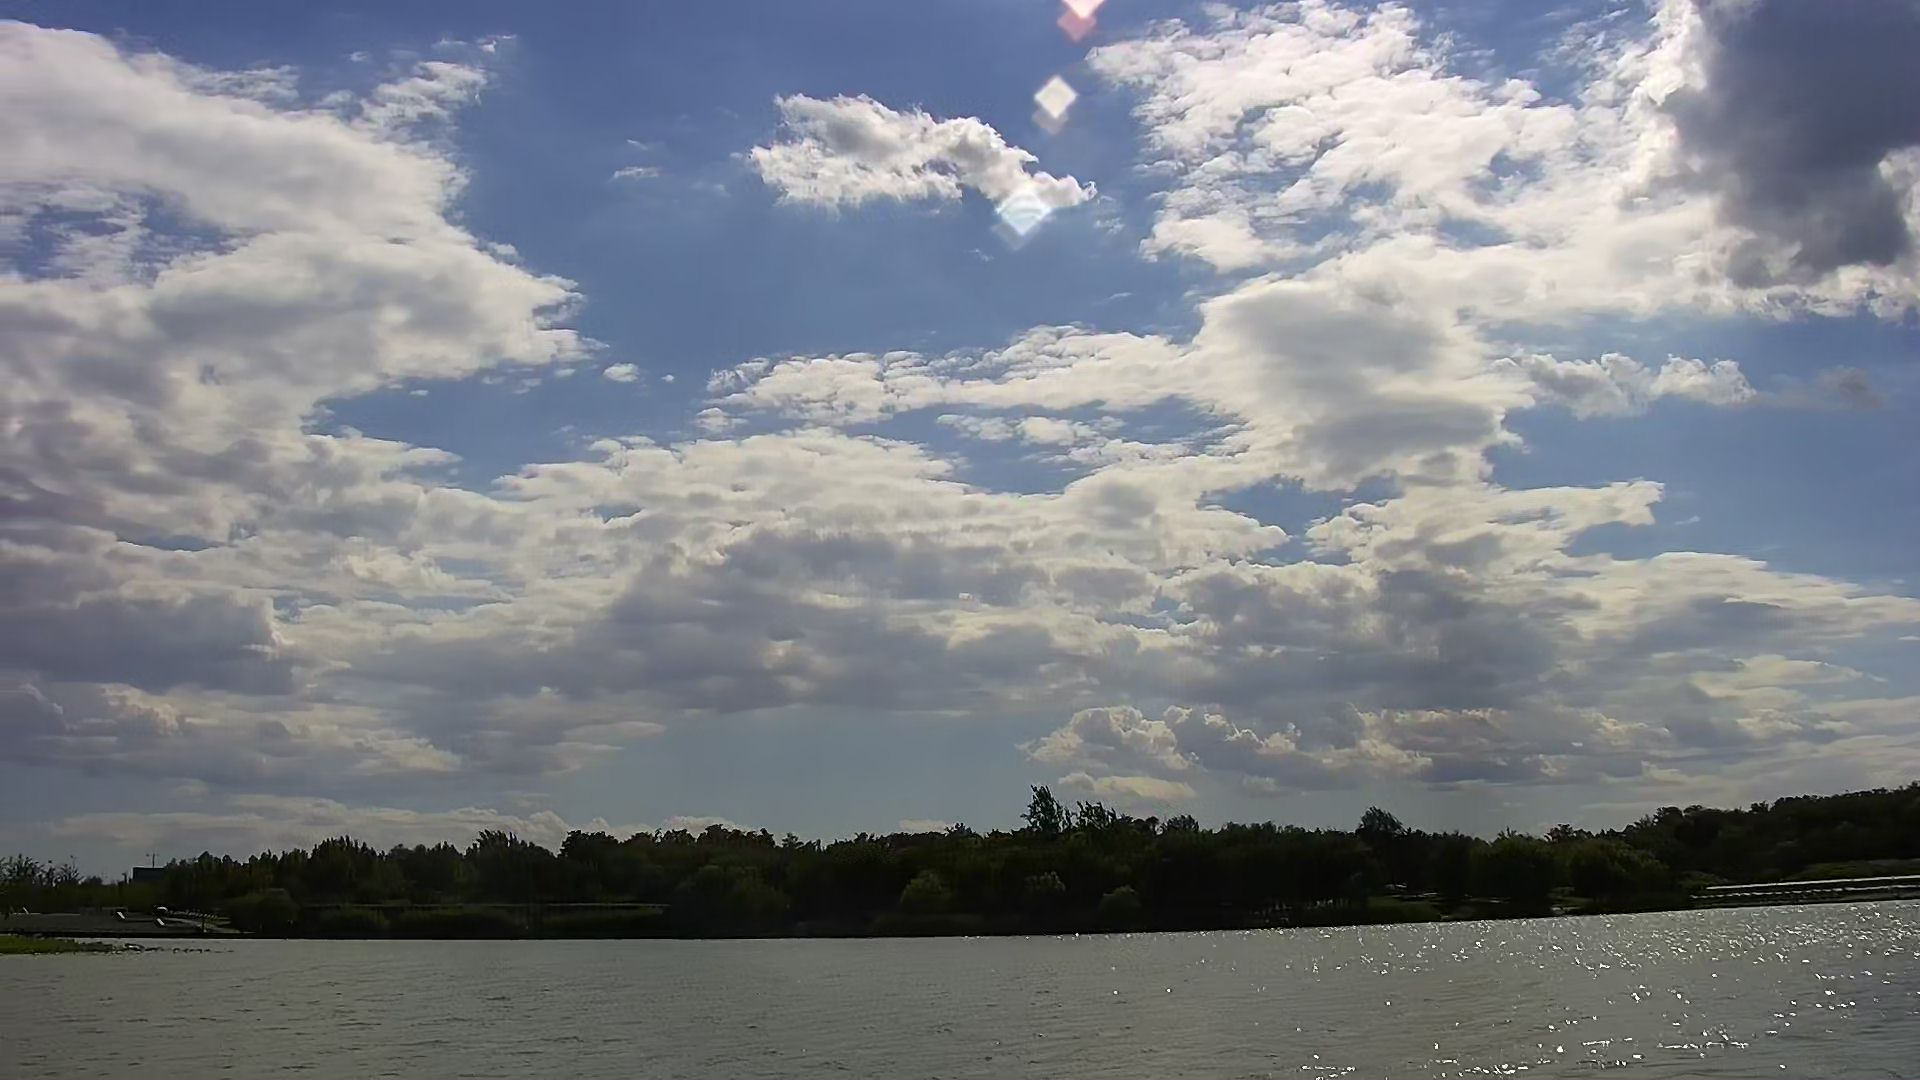harbor: (1668, 843, 1920, 899), (1, 894, 257, 945)
